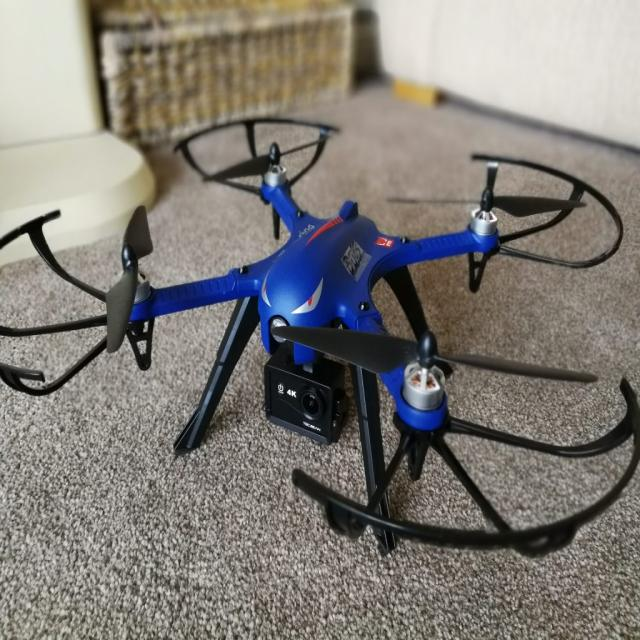drone: (0, 98, 640, 596)
